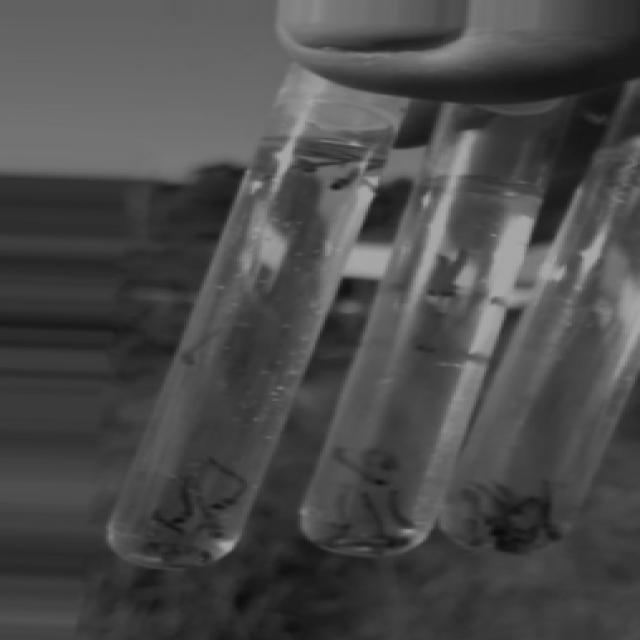larvas: (212, 455, 246, 507), (438, 249, 473, 298), (326, 161, 381, 190), (423, 255, 452, 298), (416, 308, 442, 352), (180, 335, 216, 364), (176, 476, 196, 523), (198, 497, 222, 536), (386, 493, 412, 528), (543, 485, 559, 541), (361, 491, 384, 529), (277, 157, 329, 172), (336, 484, 352, 528), (362, 450, 396, 470), (478, 482, 501, 506), (153, 514, 179, 534), (504, 497, 536, 513), (497, 482, 520, 502), (512, 524, 535, 543), (316, 537, 357, 547), (468, 516, 480, 546), (487, 518, 507, 534), (362, 537, 396, 546), (498, 540, 514, 555)
